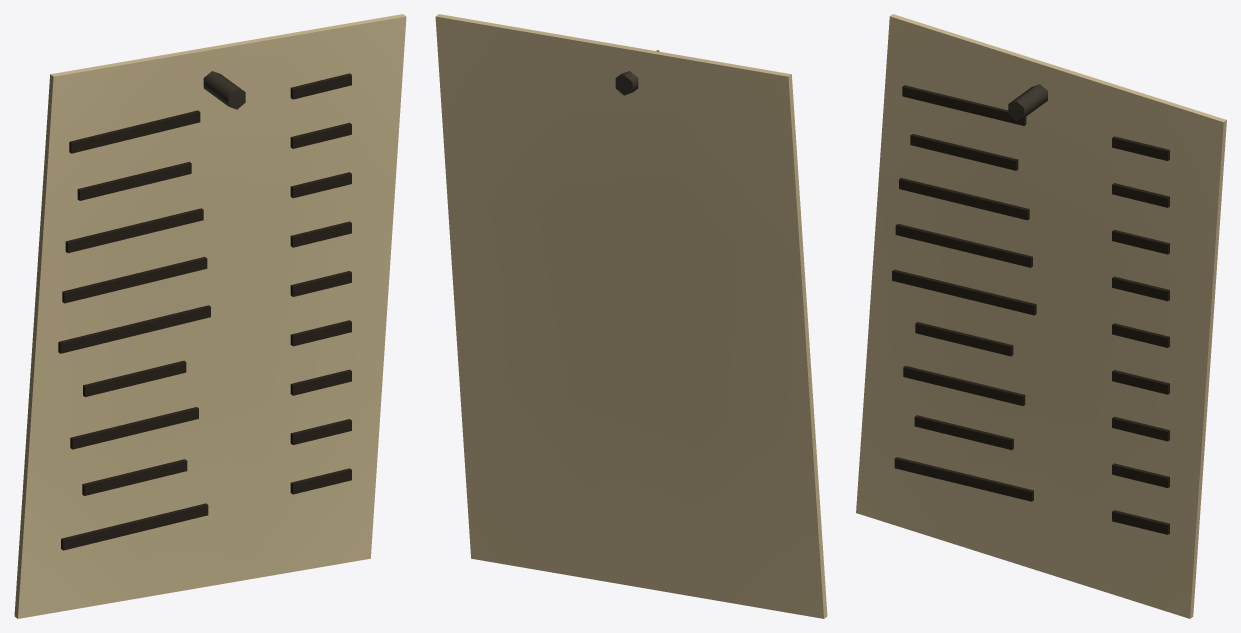
Rendered from lista_deudas.glb.
3 views of the same model, side by side, from view 1: azimuth 30°, elevation 25°; view 2: azimuth 150°, elevation 25°; view 3: azimuth 330°, elevation 25° (orthographic). The views are drawn at different scales.
Parts seen in each view (by area): view 1: lista; view 2: lista; view 3: lista.
Part boxes in pixels (box(x1,y1,x2,y2)): lista: box(14, 14, 406, 618); lista: box(435, 14, 827, 618); lista: box(856, 14, 1226, 618).
Bounding box in the file's own units: 0.1977 × 0.2719 × 0.03.
